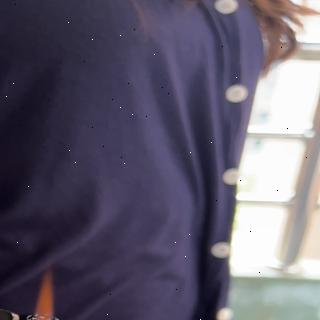fire: (32, 268, 54, 320)
